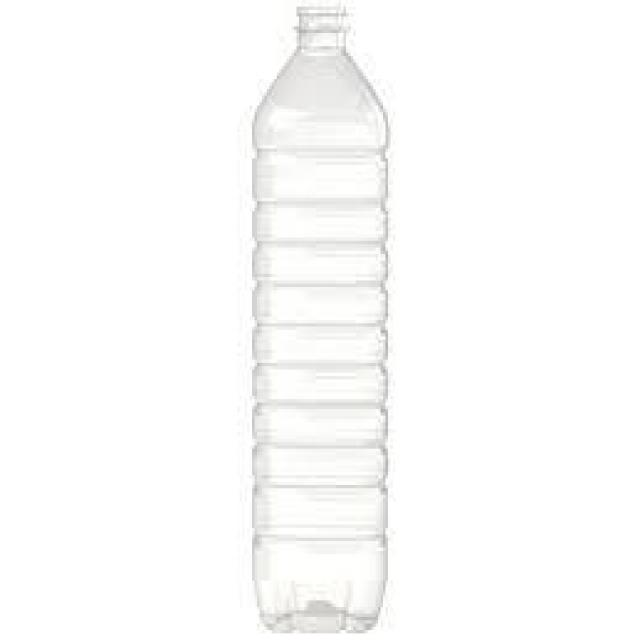bottle: (224, 4, 407, 640)
